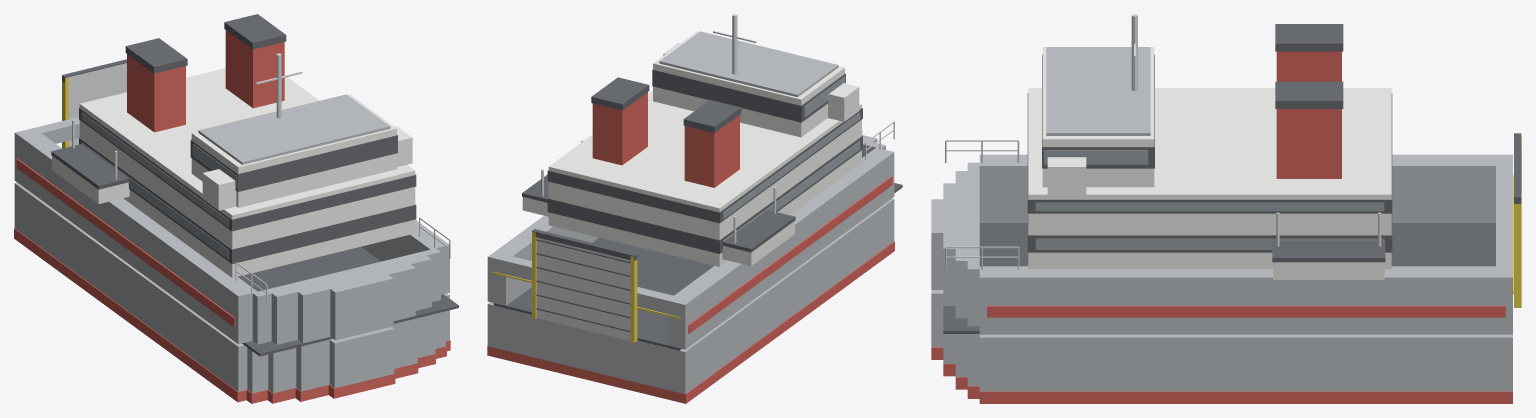
File: 1-ferry-terminal-and-harbour-crossing-ferry-terminal-and-e2675bfb.glb
3 views of the same model, side by side, from view 1: azimuth 30°, elevation 25°; view 2: azimuth 150°, elevation 25°; view 3: azimuth 270°, elevation 25° (orthographic). The views are drawn at different scales.
Visible parts, largest first — view 1: ferry-terminal-and-harbour-crossing-ro-ro-ferry-stern-sectio (×6), stern-ramp/steel; view 2: ferry-terminal-and-harbour-crossing-ro-ro-ferry-stern-sectio (×6), stern-ramp/steel, stern-ramp/yellow (×2), stern-ramp/charcoal; view 3: ferry-terminal-and-harbour-crossing-ro-ro-ferry-stern-sectio (×6), stern-ramp/yellow, stern-ramp/charcoal.
Part boxes in pixels (x1,y1,x2,y2): ferry-terminal-and-harbour-crossing-ro-ro-ferry-stern-sectio (×6): (14,14,458,403); stern-ramp/steel: (69,63,126,146); ferry-terminal-and-harbour-crossing-ro-ro-ferry-stern-sectio (×6): (487,14,902,403); stern-ramp/steel: (536,237,630,340); stern-ramp/yellow (×2): (532,232,637,342); stern-ramp/charcoal: (532,229,637,260); ferry-terminal-and-harbour-crossing-ro-ro-ferry-stern-sectio (×6): (931,14,1512,403); stern-ramp/yellow: (1514,196,1521,307); stern-ramp/charcoal: (1514,133,1521,203).
Bounding box in the file's own units: 13.94 × 14.88 × 24.36.
